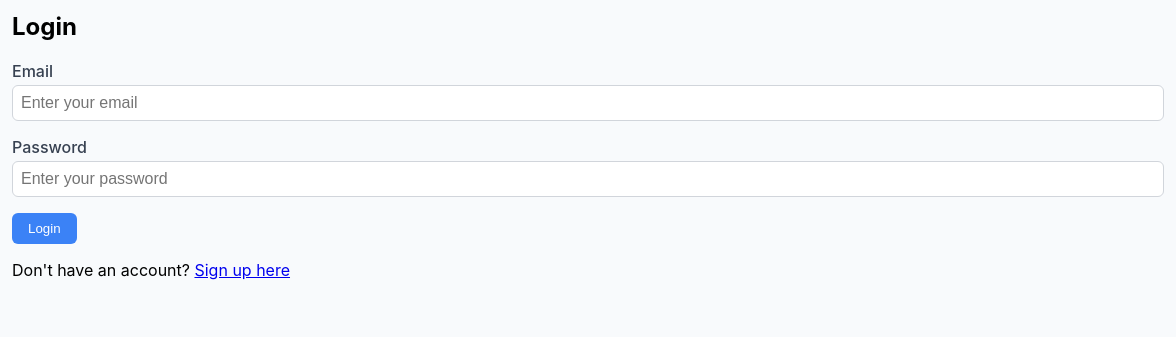
Test: LoginForm Component › clears field errors when user starts typing
The width and height of the screenshot is (1176, 337).
// Trigger validation error
Click the button with test id "submit-button".
click(44, 228)  # box [12,213,77,244]
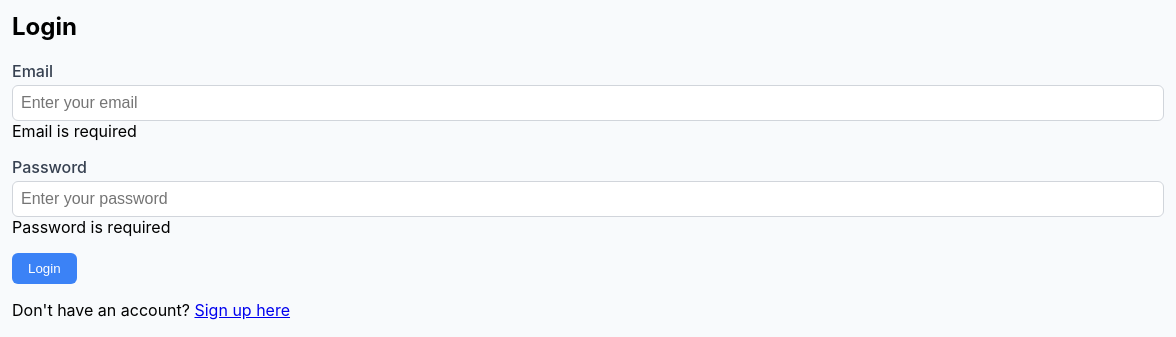
Now the text "Email is required" is shown, box [12,121,137,141]
// Start typing to clear error
Type "test@" into the field with test id "email-input".
click(588, 103); type("test@")  # box [12,85,1164,121]
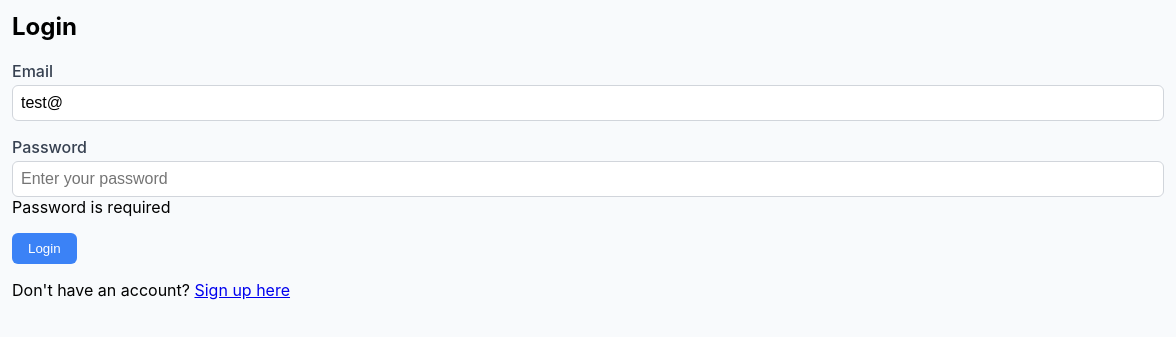
Now the text with test id "email-error" is gone
